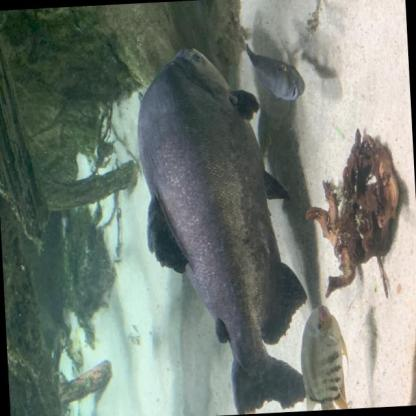fish: (132, 36, 318, 415), (298, 302, 358, 411), (246, 39, 306, 103)
